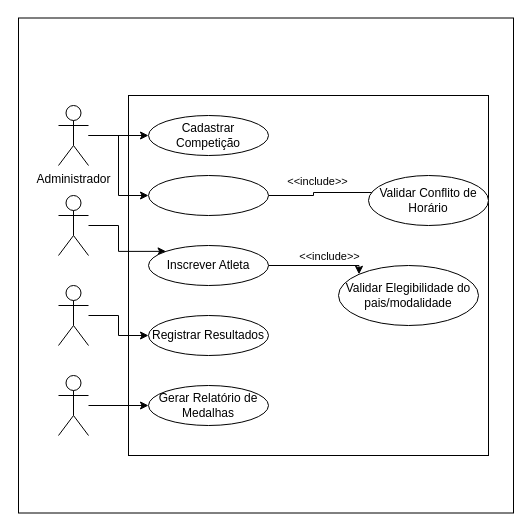
Image size: 531x530. Some labels were removed from this diagram. The centre of each missing label's shape, as x and y in pixels:
"Alocar Local" goes at pixel 208 195.
"Atleta" goes at pixel 73 225.
"Comitê Olimpico" goes at pixel 73 405.
"Oficial de Resultados" goes at pixel 73 315.
